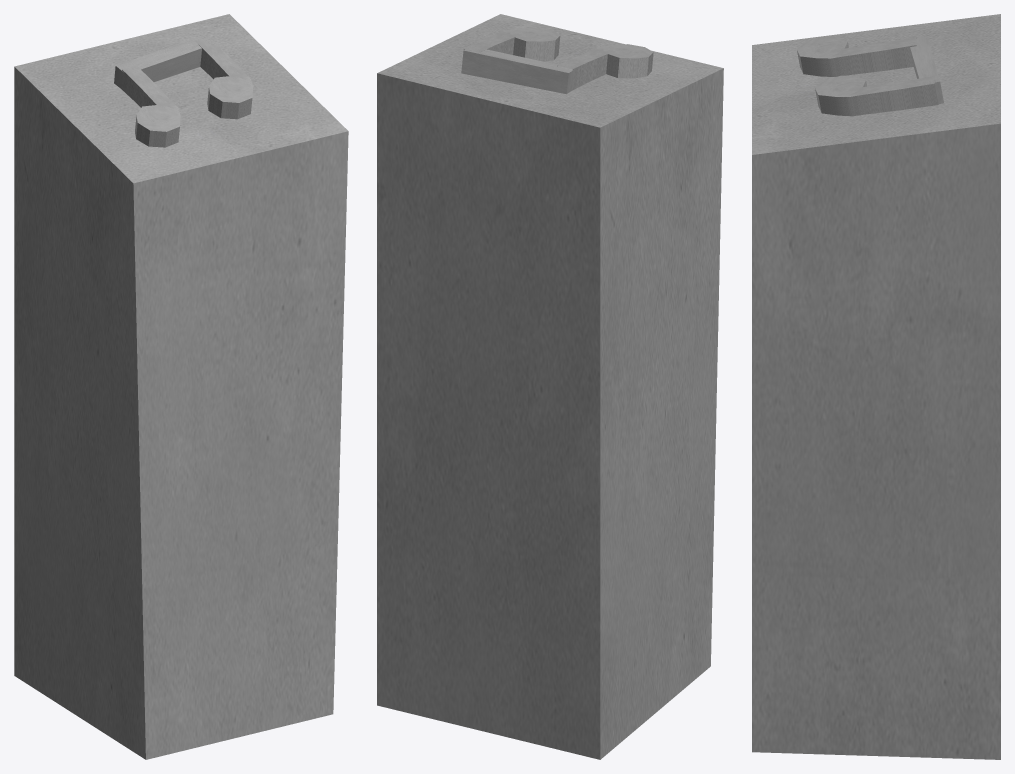
File: Obstacle4.fbx
3 views of the same model, side by side, from view 1: azimuth 30°, elevation 25°; view 2: azimuth 150°, elevation 25°; view 3: azimuth 270°, elevation 25° (orthographic). The views are drawn at different scales.
Parts seen in each view (by area): view 1: Object12; view 2: Object12; view 3: Object12.
Part boxes in pixels (x1,y1,x2,y2): Object12: (14, 14, 348, 759); Object12: (377, 14, 723, 759); Object12: (752, 14, 1000, 759).
Size of the model in its own units: 3.76 by 10.42 by 3.61.
1 material, 1 textured.
